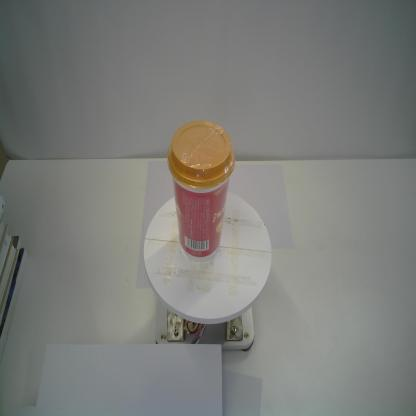Instant Drink: (166, 120, 236, 262)
